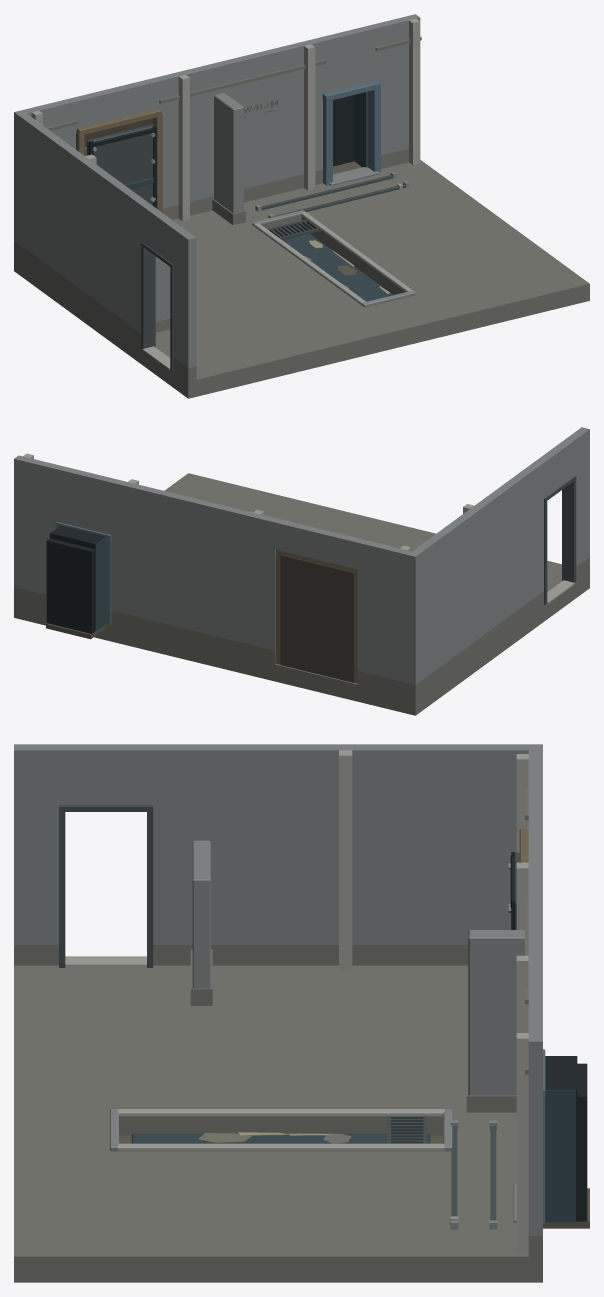
Rendered from WaterworksLowerAccess_Architecture.fbx.
3 renders of one model, top to bottom at view 1: azimuth 30°, elevation 25°; view 2: azimuth 150°, elevation 25°; view 3: azimuth 270°, elevation 25°, orthographic. The views are drawn at different scales.
Visible parts, largest first — view 1: WaterworksLower_Floor, WaterworksLower_BackWall, WaterworksLower_LeftWall, WaterworksLower_ConcreteBands, WaterworksAuxiliaryPumpAccess, WaterworksLower_BackPartition, WaterworksServiceBarrier, DrainageFloor, WaterworksLower_Entrance, WaterworksLower_ChannelLips, WaterworksLower_OlderDoorway, WaterworksLower_RackGuides (+2 smaller); view 2: WaterworksLower_BackWall, WaterworksLower_LeftWall, WaterworksLower_Floor, WaterworksLower_OlderDoorway, WaterworksAuxiliaryPumpAccess, WaterworksLower_Entrance; view 3: WaterworksLower_Floor, WaterworksLower_LeftWall, WaterworksLower_BackPartition, WaterworksLower_ConcreteBands, WaterworksAuxiliaryPumpAccess, WaterworksLower_BackWall, WaterworksLower_ChannelLips, WaterworksLower_Entrance, WaterworksLower_LeftPartition, DrainageFloor, WaterworksLower_RackGuides, WaterworksLower_ChannelGrating.
Boxes of the visible parts, bbox=[...] form: WaterworksLower_Floor: bbox=[14, 160, 589, 398]; WaterworksLower_BackWall: bbox=[14, 14, 420, 257]; WaterworksLower_LeftWall: bbox=[18, 113, 196, 381]; WaterworksLower_ConcreteBands: bbox=[31, 18, 421, 221]; WaterworksAuxiliaryPumpAccess: bbox=[322, 80, 380, 185]; WaterworksLower_BackPartition: bbox=[212, 93, 245, 224]; WaterworksServiceBarrier: bbox=[87, 124, 156, 208]; DrainageFloor: bbox=[280, 231, 393, 301]; WaterworksLower_Entrance: bbox=[141, 242, 173, 370]; WaterworksLower_ChannelLips: bbox=[252, 210, 415, 307]; WaterworksLower_OlderDoorway: bbox=[76, 108, 162, 212]; WaterworksLower_RackGuides: bbox=[255, 171, 409, 218]; WaterworksLower_BackWall: bbox=[14, 455, 420, 698]; WaterworksLower_LeftWall: bbox=[412, 427, 589, 694]; WaterworksLower_Floor: bbox=[14, 473, 589, 715]; WaterworksLower_OlderDoorway: bbox=[275, 550, 357, 683]; WaterworksAuxiliaryPumpAccess: bbox=[46, 522, 111, 639]; WaterworksLower_Entrance: bbox=[544, 476, 576, 604]; WaterworksLower_Floor: bbox=[14, 965, 542, 1282]; WaterworksLower_LeftWall: bbox=[14, 744, 528, 965]; WaterworksLower_BackPartition: bbox=[466, 930, 524, 1112]; WaterworksLower_ConcreteBands: bbox=[339, 750, 528, 1253]; WaterworksAuxiliaryPumpAccess: bbox=[513, 1049, 589, 1228]; WaterworksLower_BackWall: bbox=[528, 744, 542, 1256]; WaterworksLower_ChannelLips: bbox=[110, 1109, 452, 1151]; WaterworksLower_Entrance: bbox=[59, 805, 153, 967]; WaterworksLower_LeftPartition: bbox=[190, 840, 212, 1005]; DrainageFloor: bbox=[131, 1132, 430, 1143]; WaterworksLower_RackGuides: bbox=[450, 1120, 497, 1229]; WaterworksLower_ChannelGrating: bbox=[387, 1116, 426, 1143].
Size of the model in its own units: 8.92 by 3.36 by 7.28.
